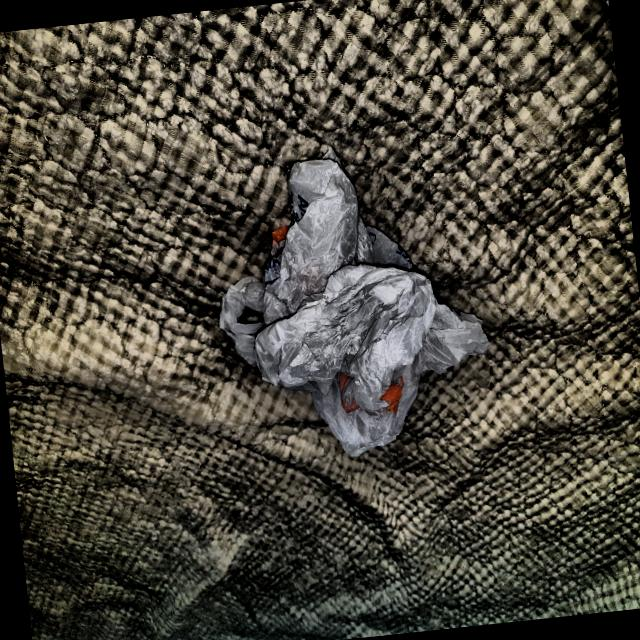plastic bag: (188, 125, 510, 479)
